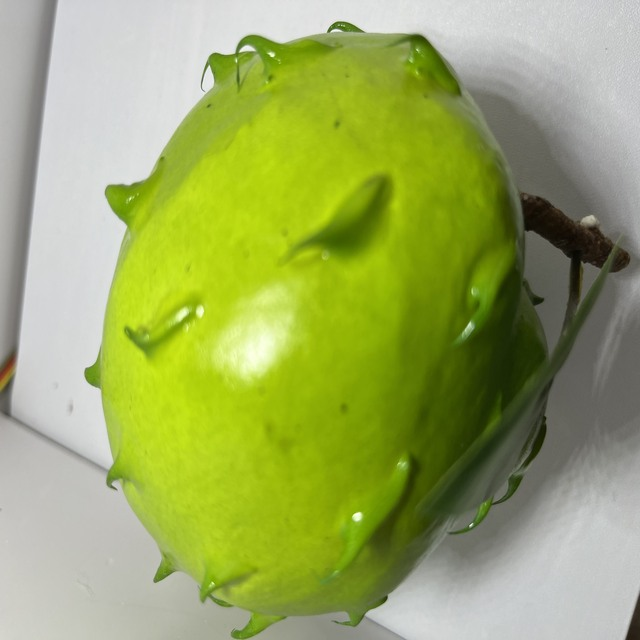Man cau: (84, 18, 569, 640)
